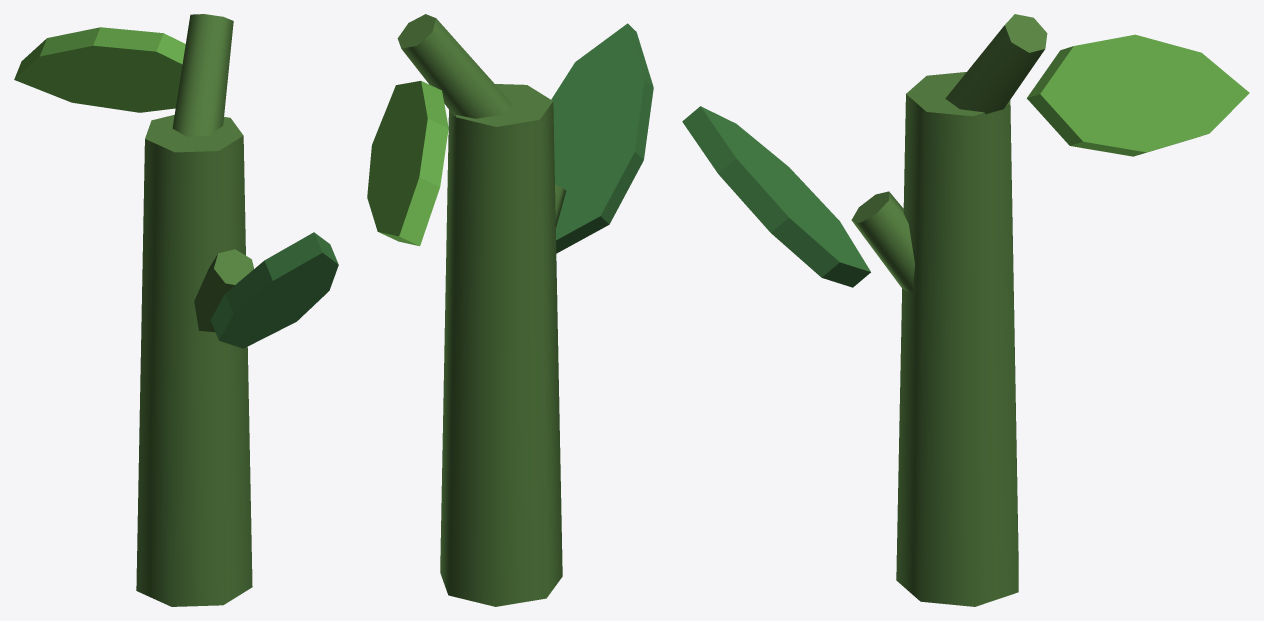
Rendered from tomato-sprout.glb.
The picture shows the model from 3 angles, left to right: view 1: azimuth 30°, elevation 25°; view 2: azimuth 150°, elevation 25°; view 3: azimuth 270°, elevation 25°; orthographic projection. The views are drawn at different scales.
Visible parts, largest first — view 1: tomato_sprout_stem, tomato_sprout_leaf, tomato_sprout_leafDark; view 2: tomato_sprout_stem, tomato_sprout_leafDark, tomato_sprout_leaf; view 3: tomato_sprout_stem, tomato_sprout_leaf, tomato_sprout_leafDark.
Boxes of the visible parts, x1,y1,x2,y2 form: tomato_sprout_stem: (136, 14, 253, 606); tomato_sprout_leaf: (14, 27, 185, 112); tomato_sprout_leafDark: (210, 232, 338, 348); tomato_sprout_stem: (397, 14, 565, 606); tomato_sprout_leafDark: (551, 23, 653, 253); tomato_sprout_leaf: (367, 81, 448, 246); tomato_sprout_stem: (851, 14, 1047, 606); tomato_sprout_leaf: (1027, 34, 1249, 156); tomato_sprout_leafDark: (682, 106, 870, 287).
Bounding box in the file's own units: 0.0408 × 0.1804 × 0.1586.
